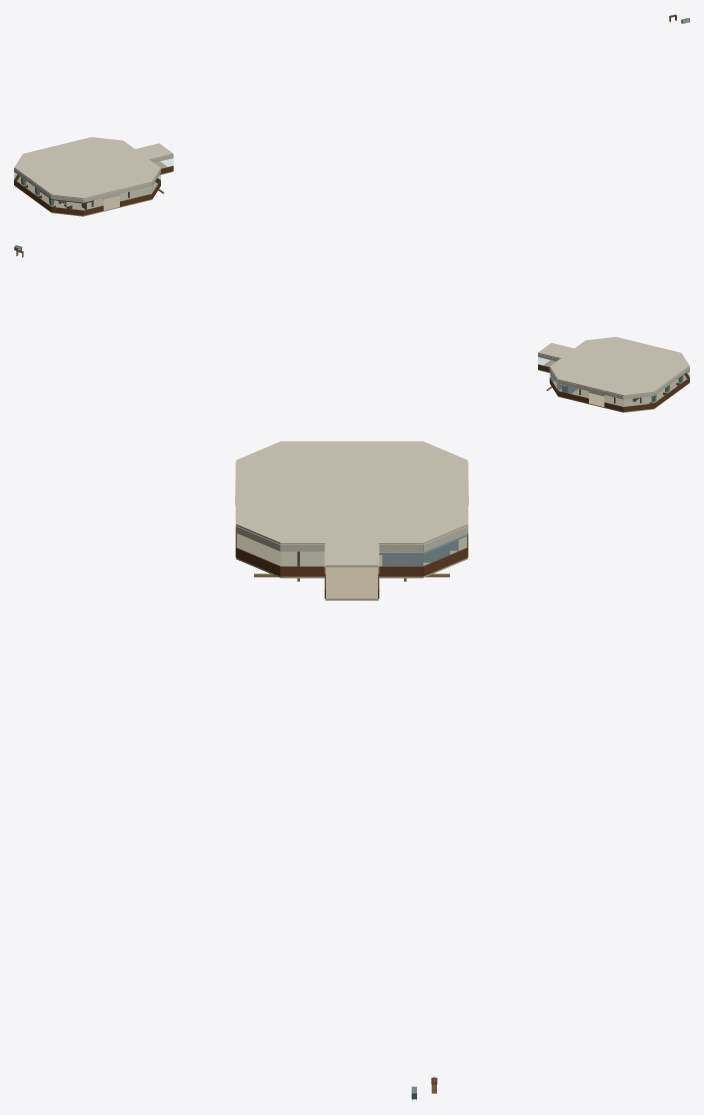
Rendered from D04_PORT_CENTRAL_CO_r001.glb.
3 renders of one model, top to bottom at view 1: azimuth 30°, elevation 25°; view 2: azimuth 150°, elevation 25°; view 3: azimuth 270°, elevation 25°, orthographic. The views are drawn at different scales.
Parts seen in each view (by area): view 1: PCC_CommonsRoof, PCC_CommonsFloor; view 2: PCC_CommonsRoof, PCC_CommonsFloor; view 3: PCC_CommonsRoof, PCC_CommonsFloor.
Part boxes in pixels (x1,y1,x2,y2): PCC_CommonsRoof: (14,137,173,198); PCC_CommonsFloor: (14,161,173,216); PCC_CommonsRoof: (538,337,689,395); PCC_CommonsFloor: (538,360,689,412); PCC_CommonsRoof: (236,441,467,567); PCC_CommonsFloor: (236,533,467,600).
Bounding box in the file's own units: 167 × 5.22 × 26.24.
Materials: 81 (77 with a texture image).
